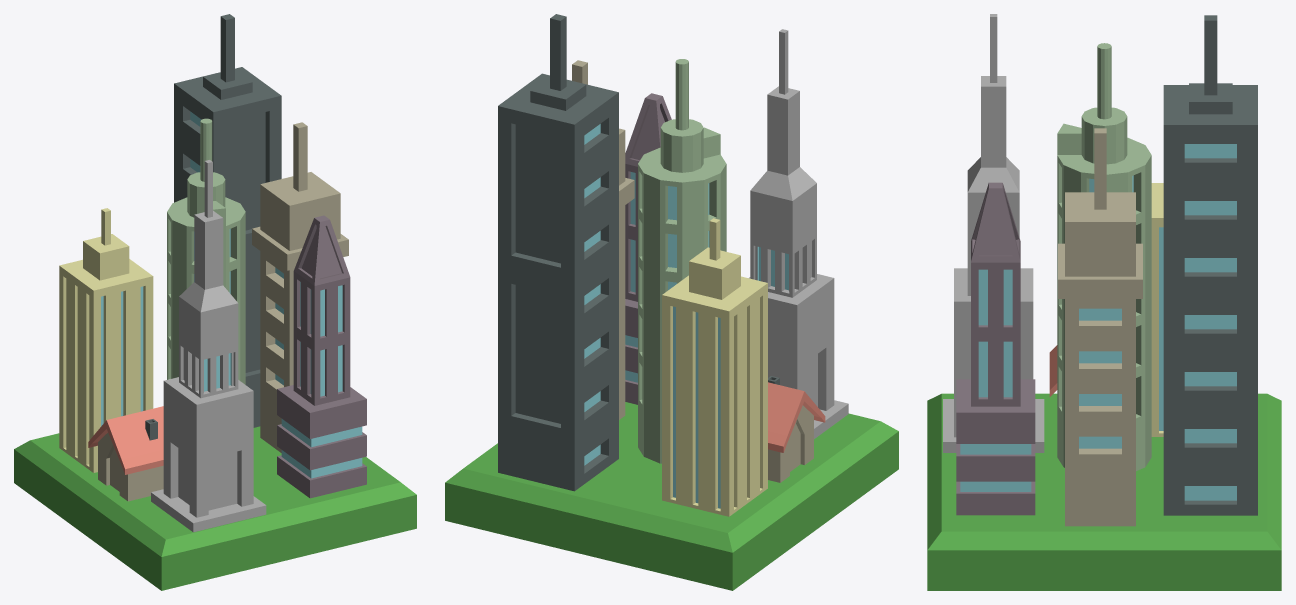
File: CityTile.fbx
The picture shows the model from 3 angles, left to right: view 1: azimuth 30°, elevation 25°; view 2: azimuth 150°, elevation 25°; view 3: azimuth 270°, elevation 25°; orthographic projection. The views are drawn at different scales.
Visible parts, largest first — view 1: Cube, Cube.005, Cube.003, Cube.002, Cube.001, Cube.004, Cylinder, Cube.006; view 2: Cube.001, Cube, Cube.002, Cube.005, Cylinder, Cube.003, Cube.006, Cube.004; view 3: Cube.001, Cube, Cube.004, Cube.003, Cylinder, Cube.005, Cube.002.
Boxes of the visible parts, x1,y1,x2,y2 form: Cube: [14, 426, 416, 590]; Cube.005: [151, 160, 266, 532]; Cube.003: [277, 215, 366, 498]; Cube.002: [59, 208, 153, 472]; Cube.001: [174, 14, 281, 427]; Cube.004: [252, 122, 348, 452]; Cylinder: [167, 118, 245, 384]; Cube.006: [88, 406, 163, 501]; Cube.001: [498, 14, 618, 491]; Cube: [445, 402, 898, 590]; Cube.002: [662, 218, 767, 516]; Cube.005: [748, 29, 848, 438]; Cylinder: [638, 59, 726, 463]; Cube.003: [625, 93, 671, 404]; Cube.006: [768, 382, 825, 482]; Cube.004: [572, 60, 634, 419]; Cube.001: [1163, 15, 1257, 515]; Cube: [927, 393, 1281, 590]; Cube.004: [1058, 128, 1142, 526]; Cube.003: [956, 182, 1035, 515]; Cylinder: [1057, 43, 1151, 470]; Cube.005: [943, 14, 1044, 452]; Cube.002: [1151, 183, 1163, 436].
Bounding box in the file's own units: 600 × 993 × 600.
